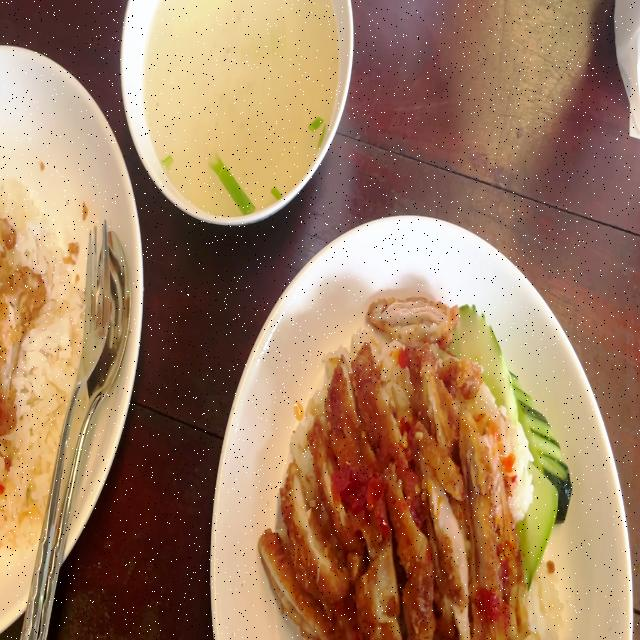chicken_rice: (255, 290, 575, 640), (0, 175, 93, 550)
cucumber: (506, 368, 575, 587), (453, 298, 519, 446)
fried_chicken: (253, 298, 518, 640), (0, 217, 45, 437)
